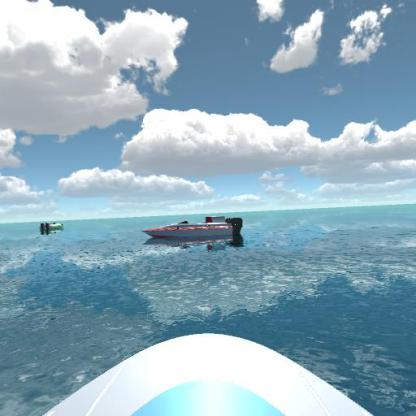usv0: (37, 216, 67, 236)
usv3: (138, 212, 248, 253)
